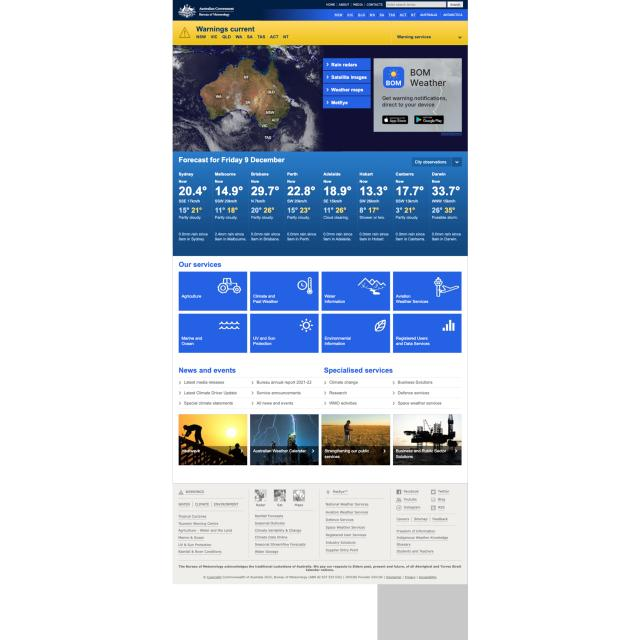CheckBox: (447, 1, 463, 7)
CheckedTextView: (386, 1, 446, 8)
ImageView: (374, 58, 462, 133)
ProgressBar: (172, 21, 468, 45)
QR code: (172, 172, 468, 244)
alert: (412, 157, 462, 167), (396, 33, 464, 40)
badge: (172, 483, 468, 584)
bag: (172, 0, 468, 20)
breadcrumbs: (179, 156, 286, 164), (324, 366, 394, 376), (178, 366, 237, 376), (196, 24, 255, 33), (178, 261, 222, 269)
card: (172, 45, 467, 151)
copy: (179, 414, 248, 466), (250, 414, 318, 466), (322, 415, 390, 465), (394, 414, 462, 464)
date picker: (177, 4, 236, 18)
decoration: (179, 271, 462, 353), (178, 377, 462, 410), (323, 58, 371, 108), (334, 12, 463, 17), (195, 34, 290, 40), (326, 2, 384, 8)
footer: (387, 3, 416, 6)
